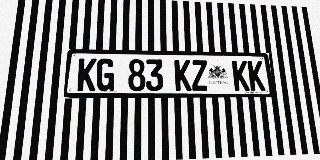3: (146, 59, 163, 91)
8: (128, 59, 145, 91)
G: (96, 58, 115, 91)
K: (77, 58, 97, 91), (174, 60, 192, 91), (232, 60, 250, 91), (247, 61, 265, 91)
Z: (191, 60, 208, 91)
